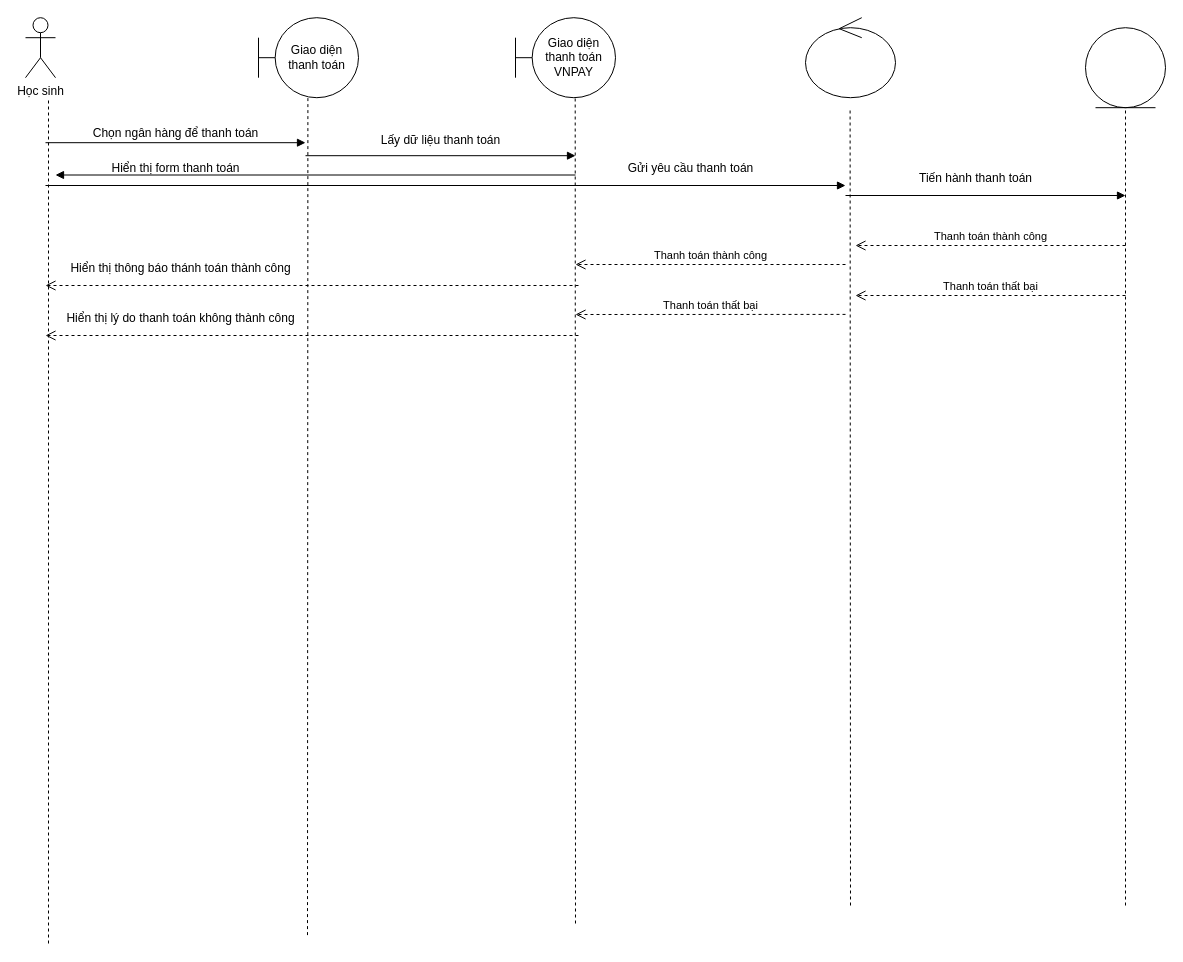
Image size: 1183x962. Some labels were removed from this diagram. Each missing label, with the box of its shape:
Payment: (1084, 27, 1166, 108)
Xử lý yêu cầu: (804, 17, 896, 98)
